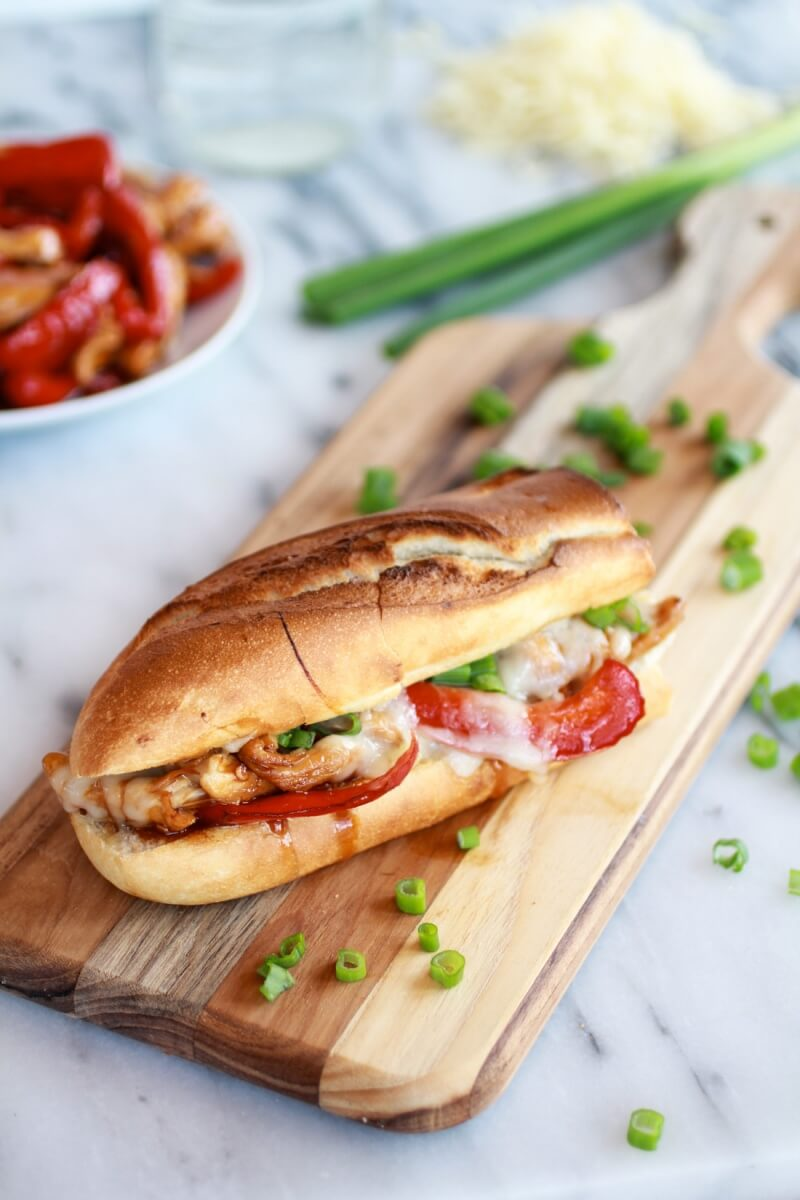sandwich: (7, 431, 792, 942)
